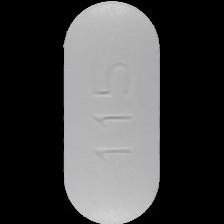31722-534: (0, 0, 224, 224)
